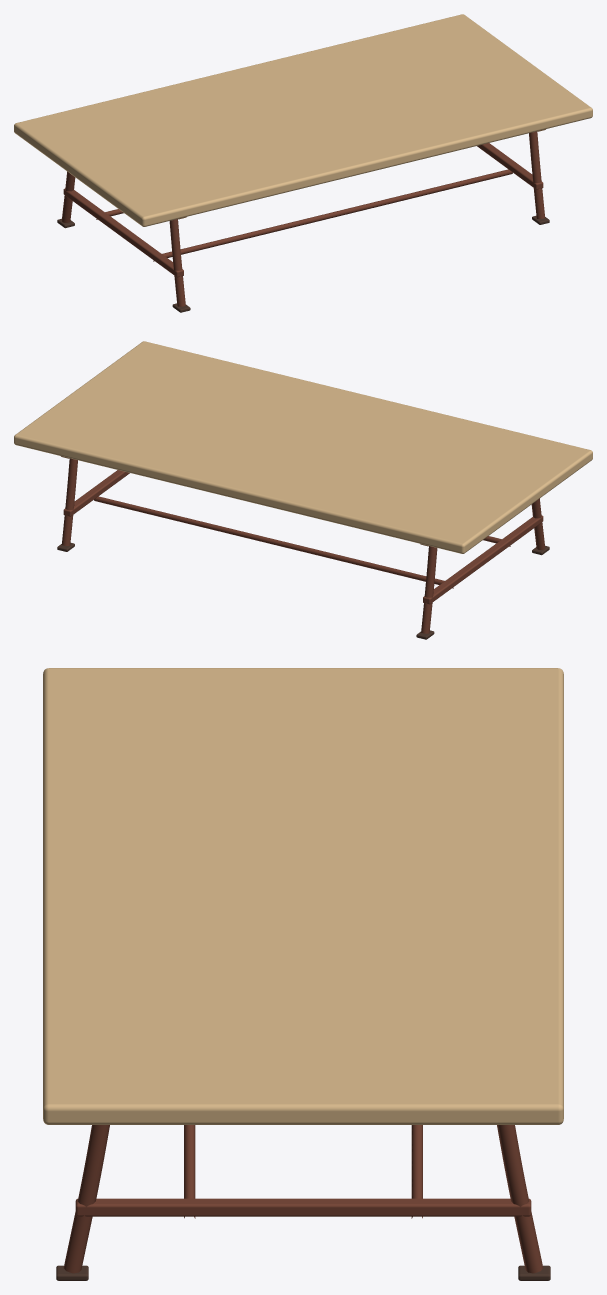
Rendered from desk.glb.
The picture shows the model from 3 angles, top to bottom: view 1: azimuth 30°, elevation 25°; view 2: azimuth 150°, elevation 25°; view 3: azimuth 270°, elevation 25°; orthographic projection. The views are drawn at different scales.
Visible parts, largest first — view 1: rounded-oak-top, long-stretcher-0.7, trestle--2.5500000000000003, splayed-leg--2.5500000000000003-1, splayed-leg-2.5500000000000003-1, trestle-2.5500000000000003, splayed-leg--2.5500000000000003--1; view 2: rounded-oak-top, long-stretcher--0.7, trestle--2.5500000000000003, splayed-leg--2.5500000000000003--1, splayed-leg-2.5500000000000003--1, trestle-2.5500000000000003, splayed-leg--2.5500000000000003-1; view 3: rounded-oak-top, trestle-2.5500000000000003, splayed-leg-2.5500000000000003--1, splayed-leg-2.5500000000000003-1, long-stretcher--0.7, long-stretcher-0.7.
Part boxes in pixels (<box>): rounded-oak-top: <box>14,14,592,226</box>; long-stretcher-0.7: <box>153,169,512,261</box>; trestle--2.5500000000000003: <box>63,188,183,277</box>; splayed-leg--2.5500000000000003-1: <box>169,219,185,306</box>; splayed-leg-2.5500000000000003-1: <box>529,131,545,218</box>; trestle-2.5500000000000003: <box>477,143,543,189</box>; splayed-leg--2.5500000000000003--1: <box>62,171,75,222</box>; rounded-oak-top: <box>14,341,592,553</box>; long-stretcher--0.7: <box>94,496,453,588</box>; trestle--2.5500000000000003: <box>423,515,543,604</box>; splayed-leg--2.5500000000000003--1: <box>421,546,437,633</box>; splayed-leg-2.5500000000000003--1: <box>61,458,77,545</box>; trestle-2.5500000000000003: <box>63,470,129,516</box>; splayed-leg--2.5500000000000003-1: <box>531,498,544,549</box>; rounded-oak-top: <box>43,668,563,1124</box>; trestle-2.5500000000000003: <box>75,1198,531,1216</box>; splayed-leg-2.5500000000000003--1: <box>497,1125,543,1273</box>; splayed-leg-2.5500000000000003-1: <box>63,1125,109,1273</box>; long-stretcher--0.7: <box>411,1125,422,1218</box>; long-stretcher-0.7: <box>184,1125,195,1218</box>.
Size of the model in its own units: 6.4 by 1.46 by 3.2.
